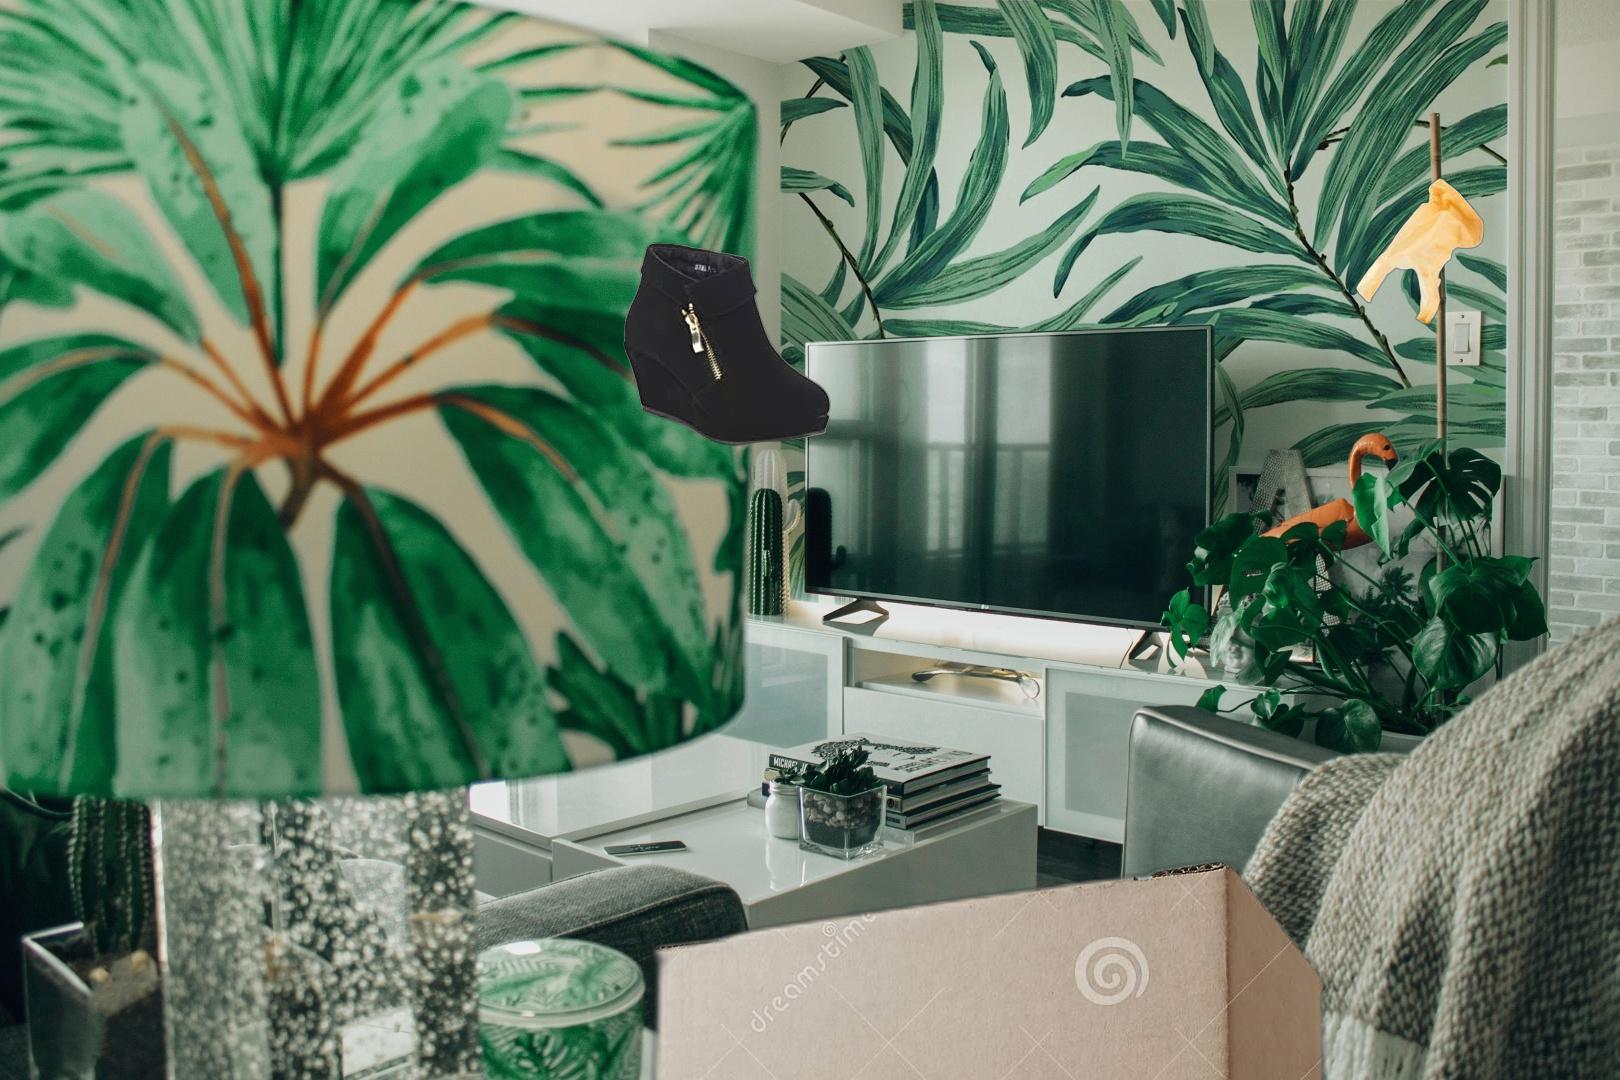plastic-bag: (1352, 175, 1487, 328)
shoes: (623, 241, 830, 459)
trashbox-cardboard: (627, 850, 1358, 1080)
